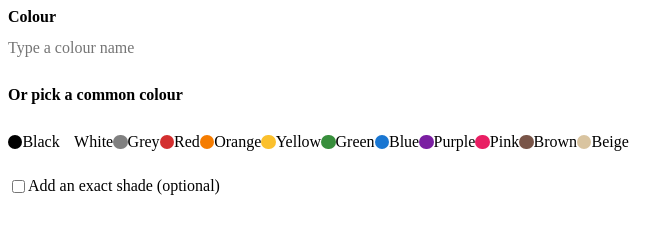
Test case: ColorValueInput › says so when a palette colour cannot be added
Click the button "Green". click: point(348, 142)
box: [321, 120, 375, 164]
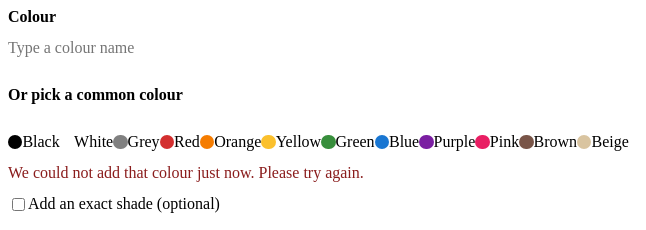
Expected: the text "We could not add that colour just now. Please try again." is shown, [8, 164, 364, 181]
